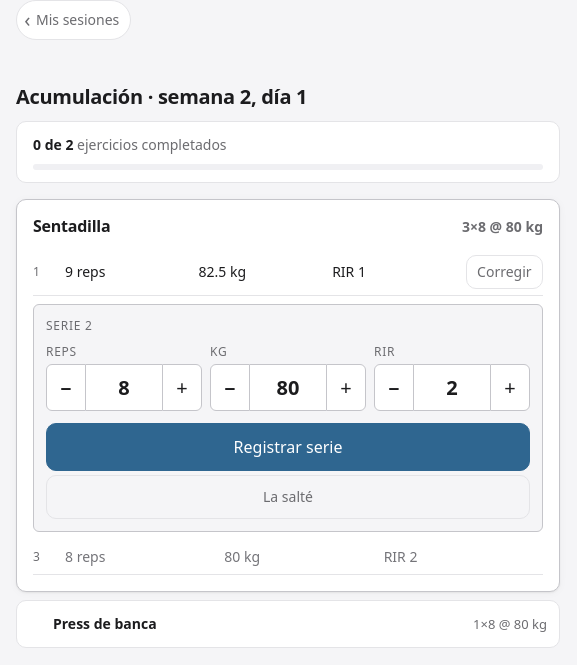
una serie abierta por vez › corregir vuelve a abrir esa serie y no otra
Click the button "Corregir". click: [504, 272]
box: [466,255,543,289]
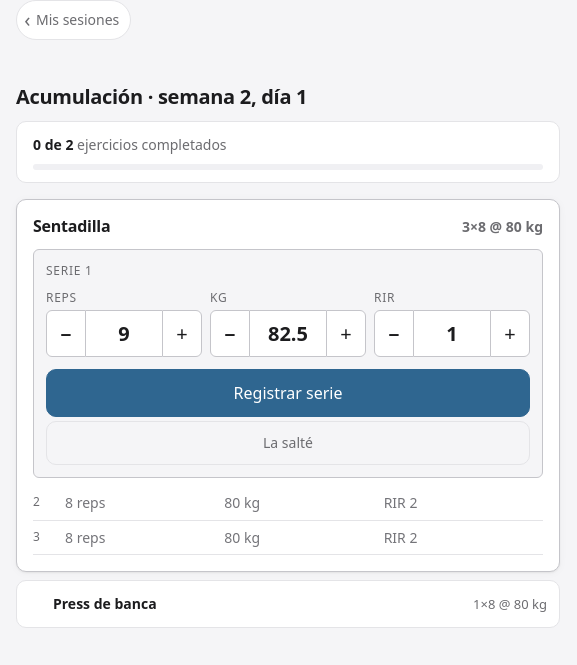
Expected: the number of fields named "Reps" is 1, [86,310,162,357]
Now the text "Serie 1" is shown, box [46,262,92,279]
